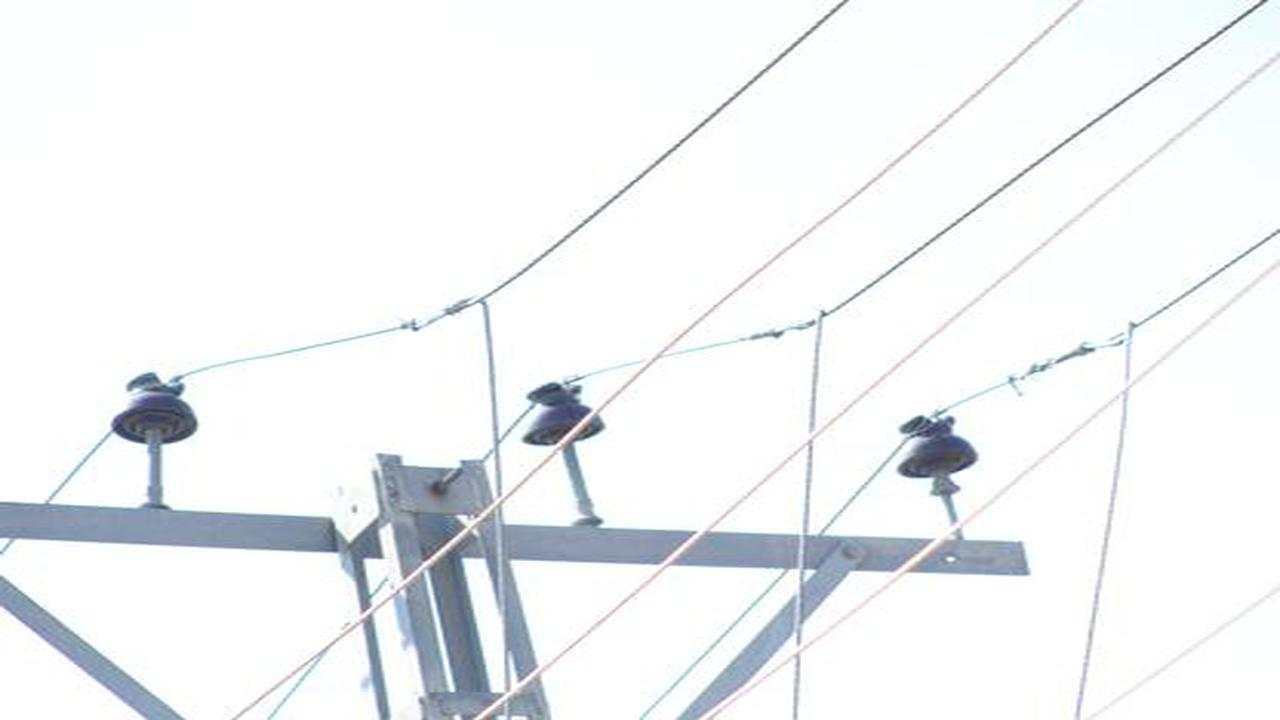insulator_pin: (516, 376, 615, 455), (106, 365, 199, 447), (893, 408, 983, 487)
